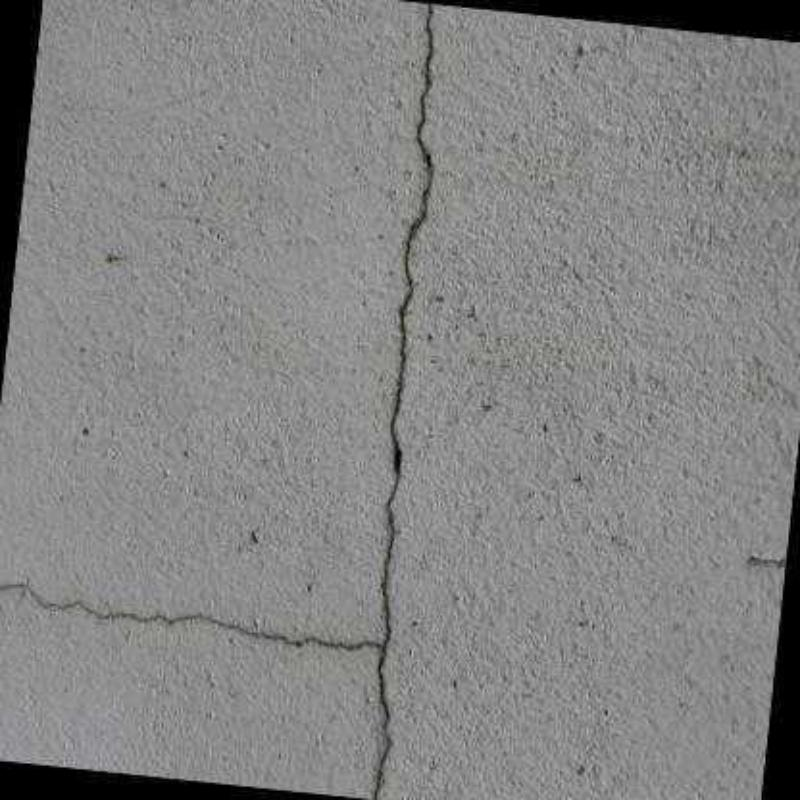crack: (3, 4, 438, 800)
